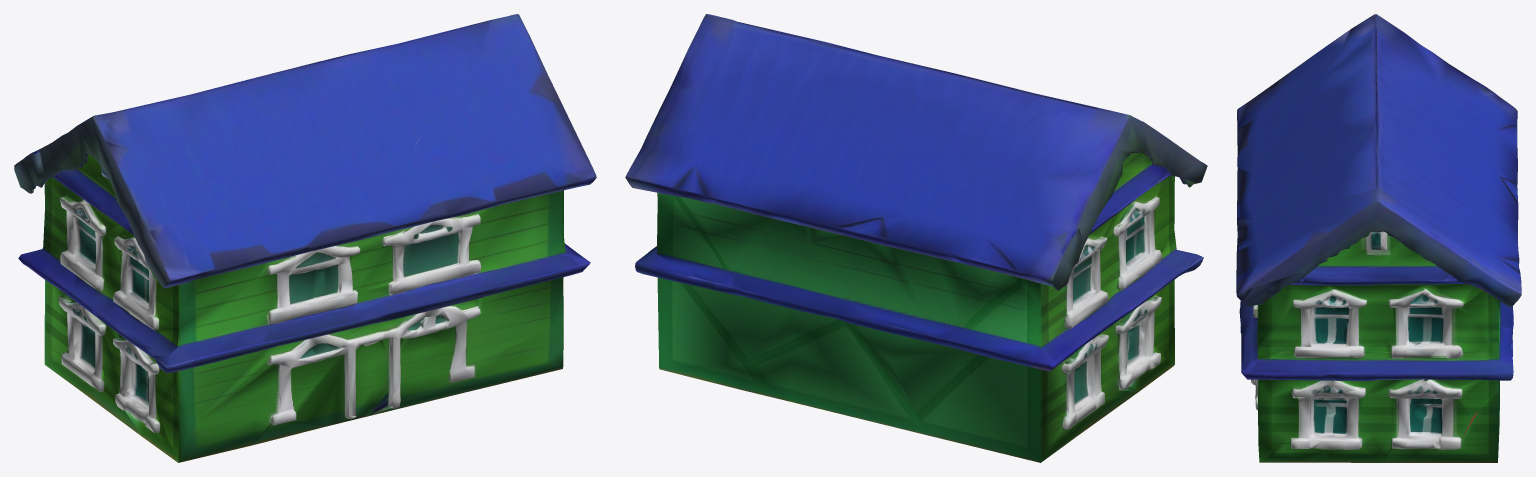
The model's file is Green_House.glb.
3 views of the same model, side by side, from view 1: azimuth 30°, elevation 25°; view 2: azimuth 150°, elevation 25°; view 3: azimuth 270°, elevation 25° (orthographic). The views are drawn at different scales.
Bounding box in the file's own units: 2 × 1.36 × 1.29.
Materials: 1 (1 with a texture image).
